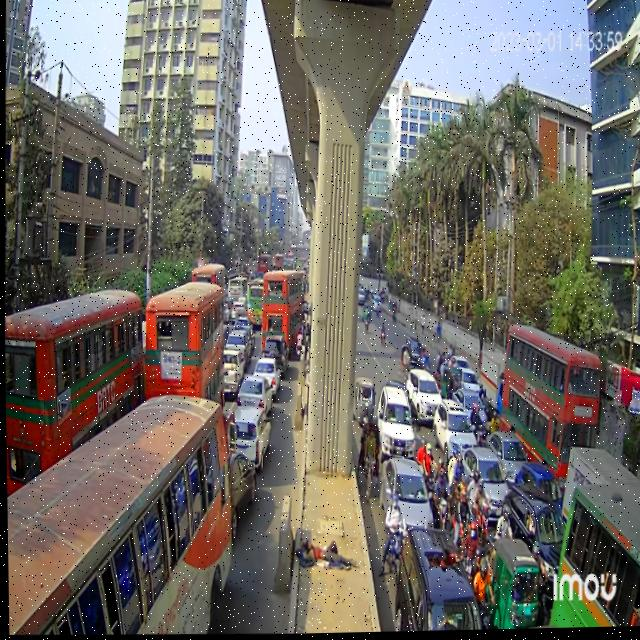cng: (483, 533, 537, 632)
